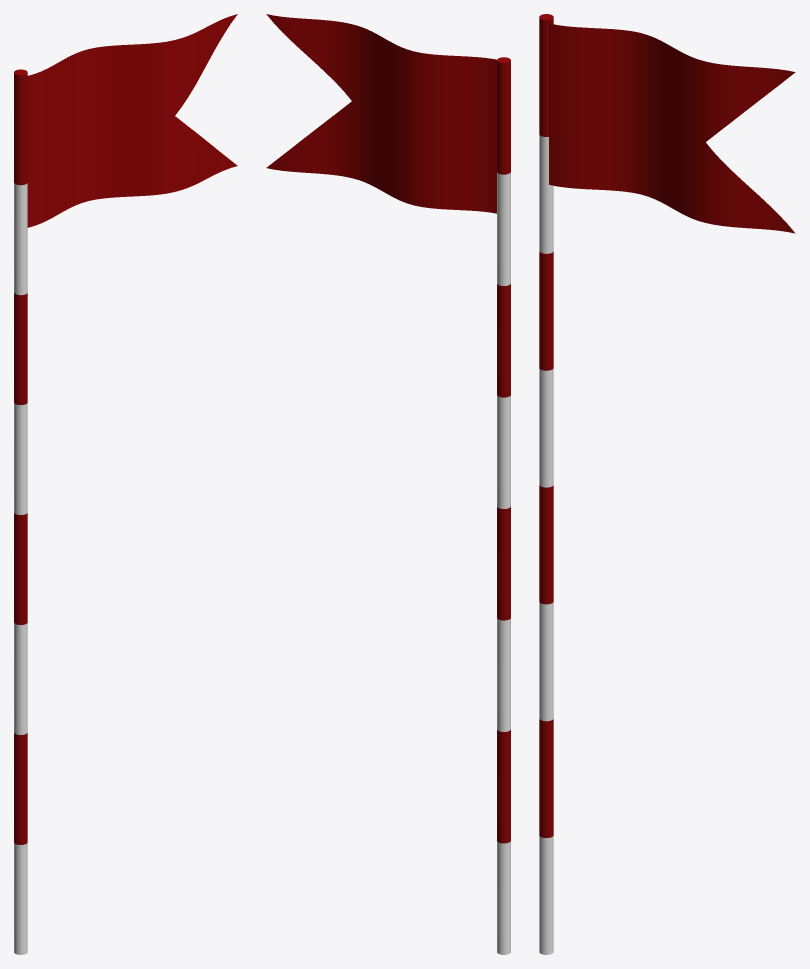
File: Flag_Сut.FBX
3 renders of one model, left to right at view 1: azimuth 30°, elevation 25°; view 2: azimuth 150°, elevation 25°; view 3: azimuth 330°, elevation 25°, orthographic. The views are drawn at different scales.
Parts seen in each view (by area): view 1: Plane001, Pole; view 2: Plane001, Pole; view 3: Plane001, Pole.
Part boxes in pixels (x1=…): Plane001: x1=27, y1=14, x2=237, y2=227; Pole: x1=14, y1=69, x2=27, y2=954; Plane001: x1=266, y1=14, x2=496, y2=213; Pole: x1=497, y1=57, x2=510, y2=954; Plane001: x1=549, y1=23, x2=795, y2=233; Pole: x1=539, y1=14, x2=553, y2=954.
Size of the model in its own units: 81.72 by 296 by 8.24.
